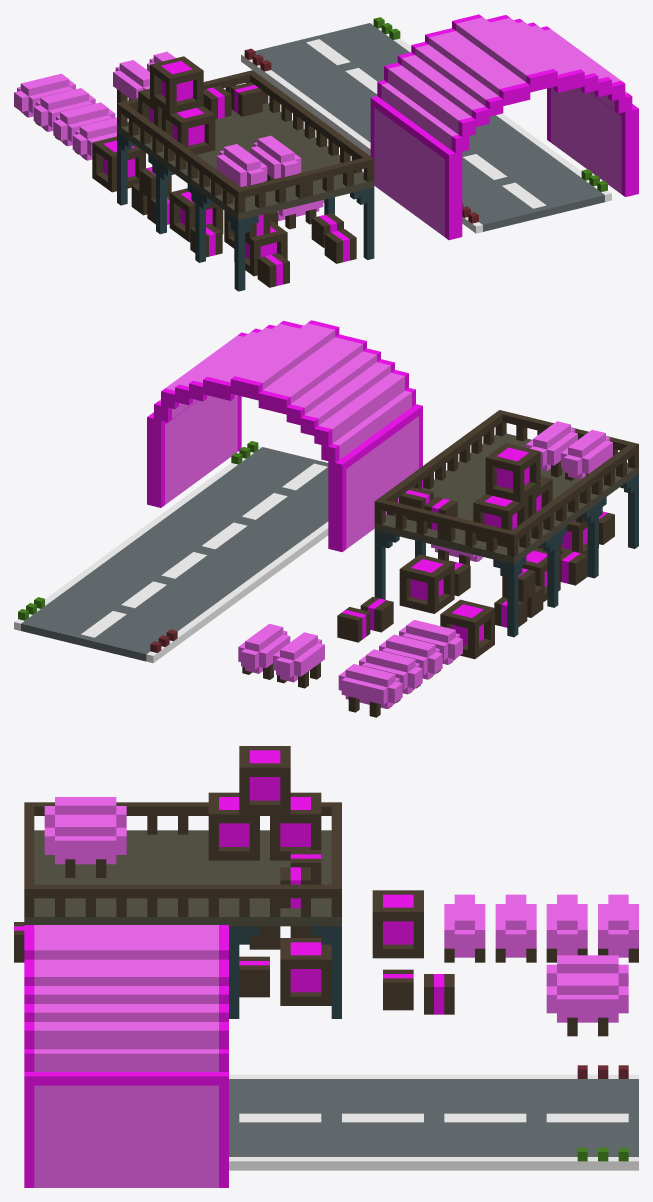
The model's file is airfield.obj.
3 renders of one model, top to bottom at view 1: azimuth 30°, elevation 25°; view 2: azimuth 150°, elevation 25°; view 3: azimuth 270°, elevation 25°, orthographic. The views are drawn at different scales.
Size of the model in its own units: 5.9 by 2.1 by 6.1.
Materials: 1 (1 with a texture image).
